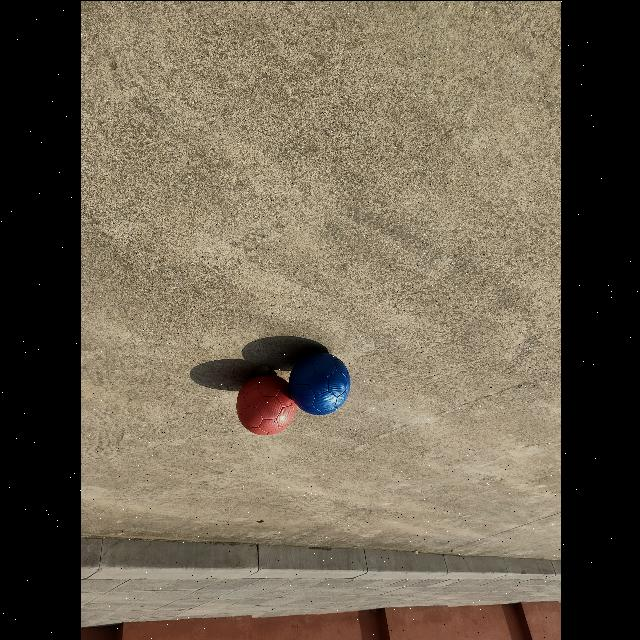B: (287, 351, 350, 414)
R: (235, 373, 296, 434)
